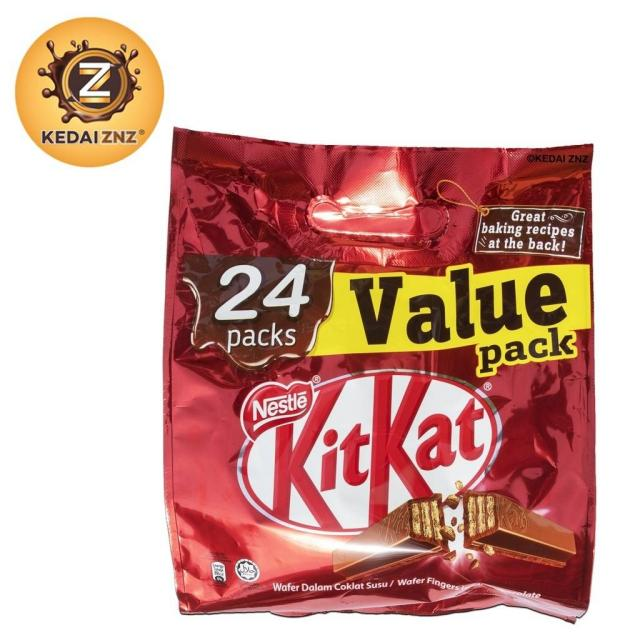kitkat: (170, 132, 596, 624)
